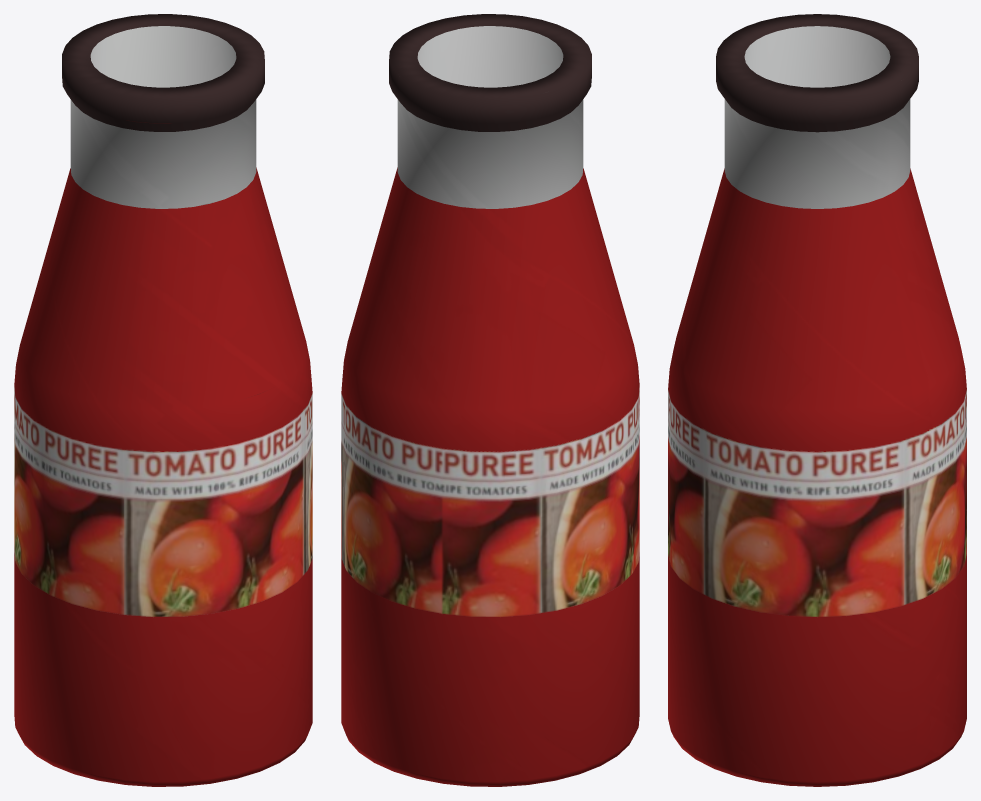
File: tomatopuree.fbx
3 views of the same model, side by side, from view 1: azimuth 30°, elevation 25°; view 2: azimuth 150°, elevation 25°; view 3: azimuth 270°, elevation 25° (orthographic).
Parts seen in each view (by area): view 1: Cylinder; view 2: Cylinder; view 3: Cylinder.
Part boxes in pixels (<box>): Cylinder: <box>14,14,312,786</box>; Cylinder: <box>341,14,639,786</box>; Cylinder: <box>668,14,966,786</box>.
Bounding box in the file's own units: 28.59 × 70.79 × 28.59.
